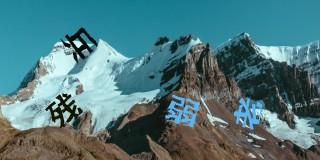兵: (60, 27, 97, 64)
弱: (164, 95, 199, 128)
残: (45, 93, 82, 128)
老: (234, 96, 262, 130)
